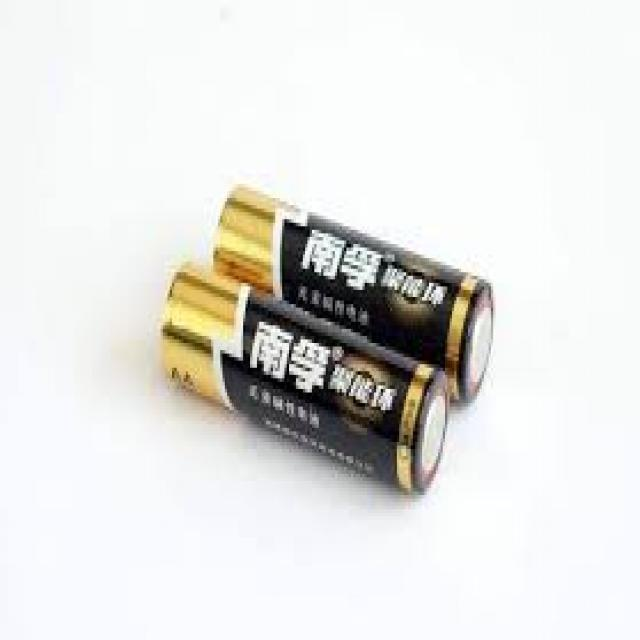battery: (161, 255, 451, 494), (210, 182, 495, 406)
